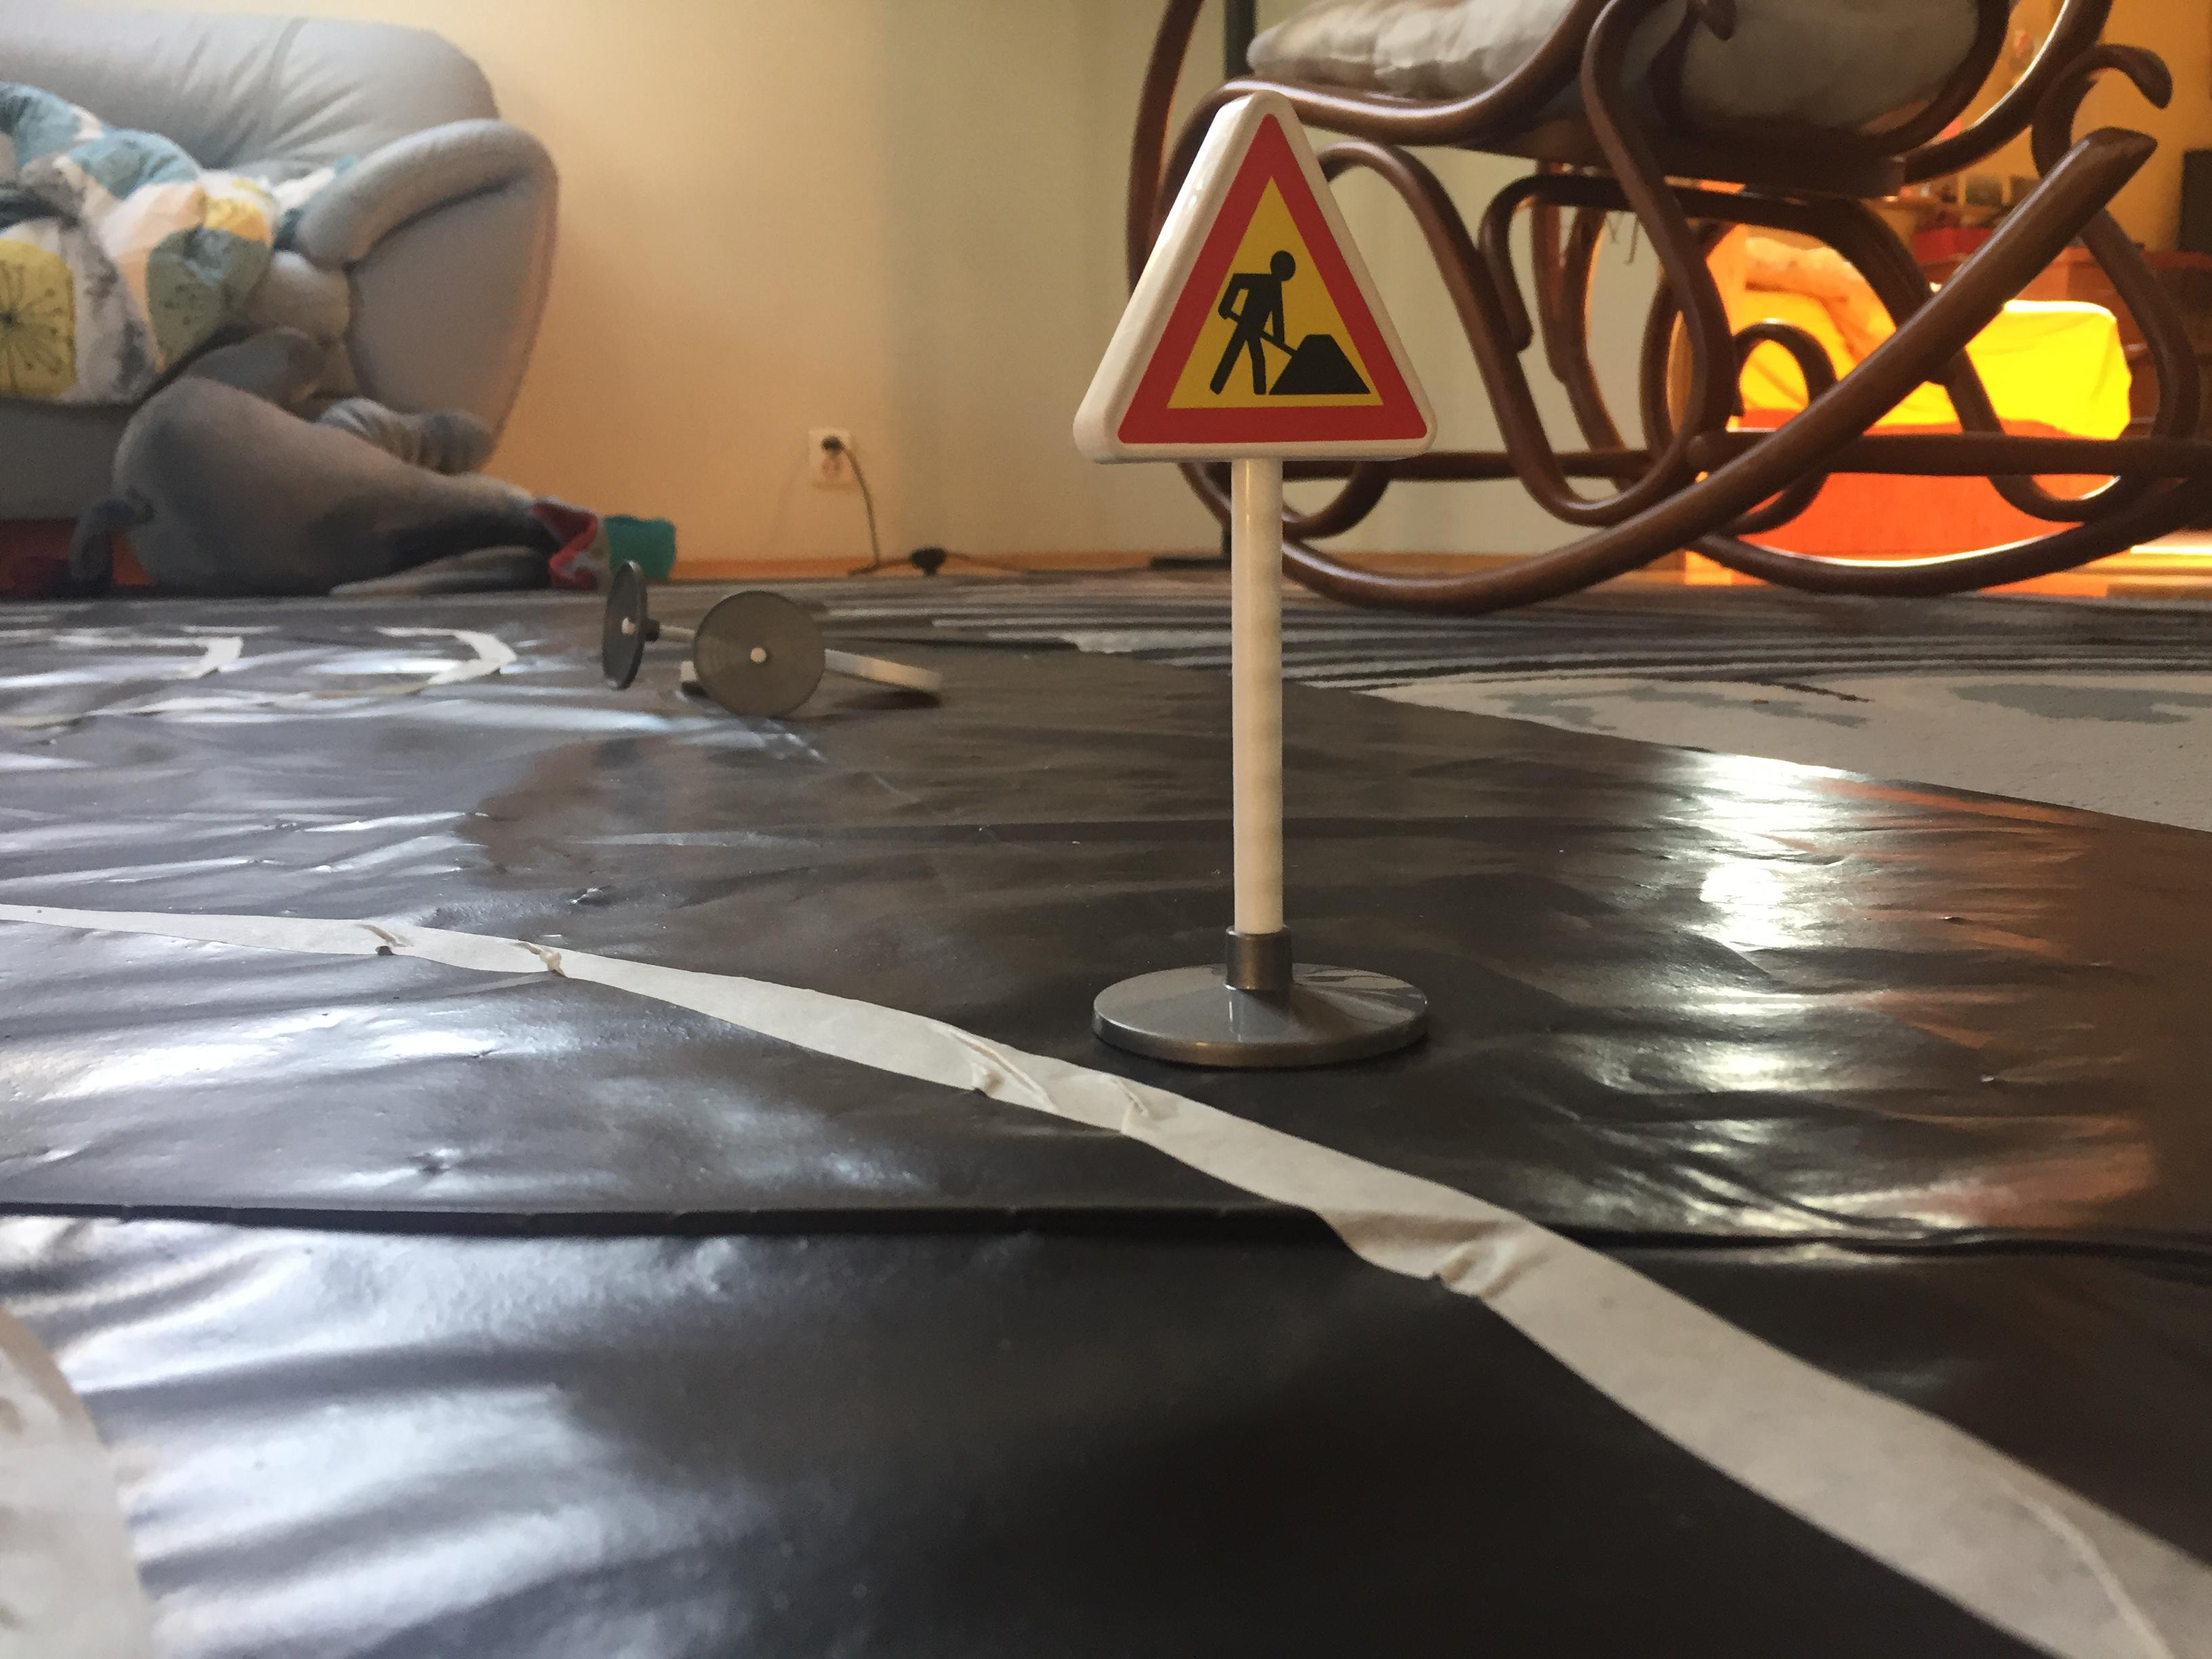work: (1062, 89, 1454, 477)
